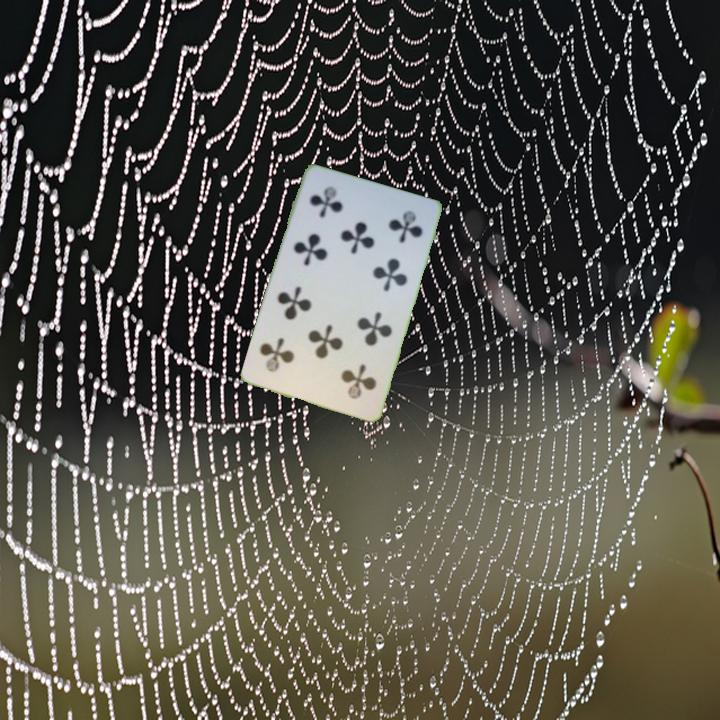c_10.png: (294, 174, 373, 247), (309, 338, 388, 411)
